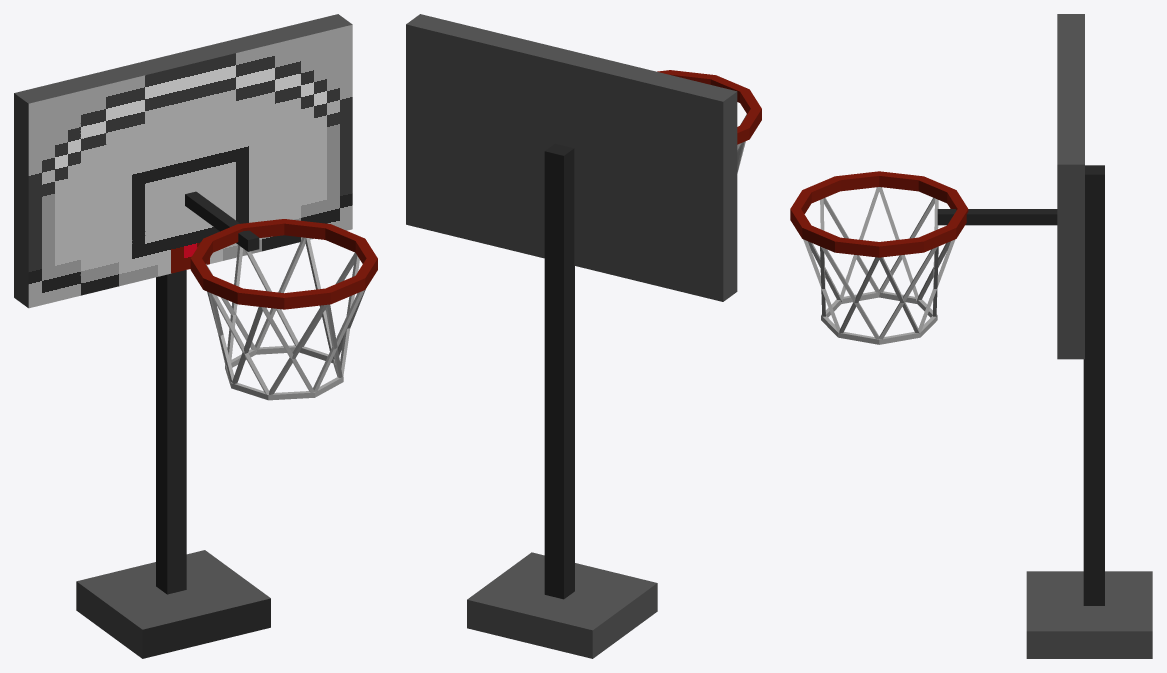
The model's file is basketball_hoop.glb.
3 renders of one model, left to right at view 1: azimuth 30°, elevation 25°; view 2: azimuth 150°, elevation 25°; view 3: azimuth 270°, elevation 25°, orthographic. The views are drawn at different scales.
Parts seen in each view (by area): view 1: Stand_And_Backboard, Open_Net, Hoop_Rim; view 2: Stand_And_Backboard, Hoop_Rim; view 3: Stand_And_Backboard, Open_Net, Hoop_Rim.
Boxes of the visible parts, <box> form: Stand_And_Backboard: <box>14,14,352,658</box>; Open_Net: <box>206,237,365,400</box>; Hoop_Rim: <box>190,219,377,309</box>; Stand_And_Backboard: <box>406,14,737,658</box>; Hoop_Rim: <box>657,70,761,144</box>; Stand_And_Backboard: <box>937,14,1152,658</box>; Open_Net: <box>803,187,955,344</box>; Hoop_Rim: <box>790,171,968,257</box>.
Size of the model in its own units: 1.16 by 1.94 by 1.18.
Materials: 1 (1 with a texture image).
